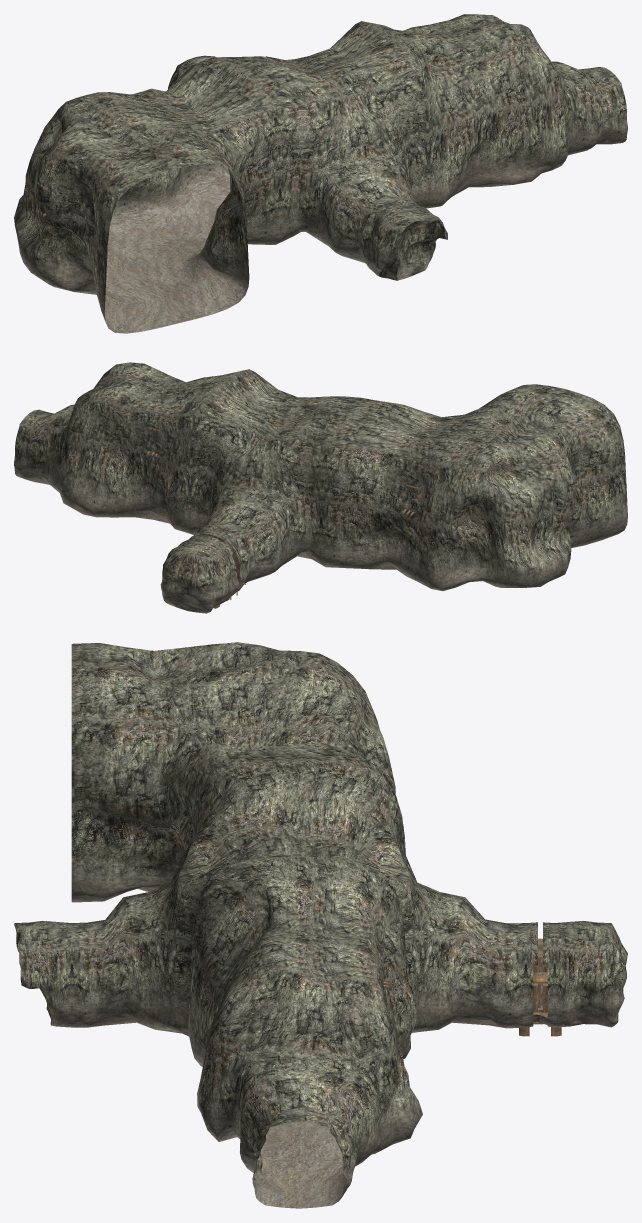
The model's file is poi_all_bunker_mad_bio_s01_r13_largecavehall1_mesh_r13.fbx.
The picture shows the model from 3 angles, top to bottom: view 1: azimuth 30°, elevation 25°; view 2: azimuth 150°, elevation 25°; view 3: azimuth 270°, elevation 25°; orthographic projection. The views are drawn at different scales.
Parts seen in each view (by area): view 1: mesh_node; view 2: mesh_node; view 3: mesh_node.
Boxes of the visible parts, left/top/right/bottom form: mesh_node: left=14, top=14, right=627, bottom=333; mesh_node: left=14, top=362, right=627, bottom=613; mesh_node: left=14, top=642, right=627, bottom=1208.
Size of the model in its own units: 64.19 by 17.48 by 43.22.
